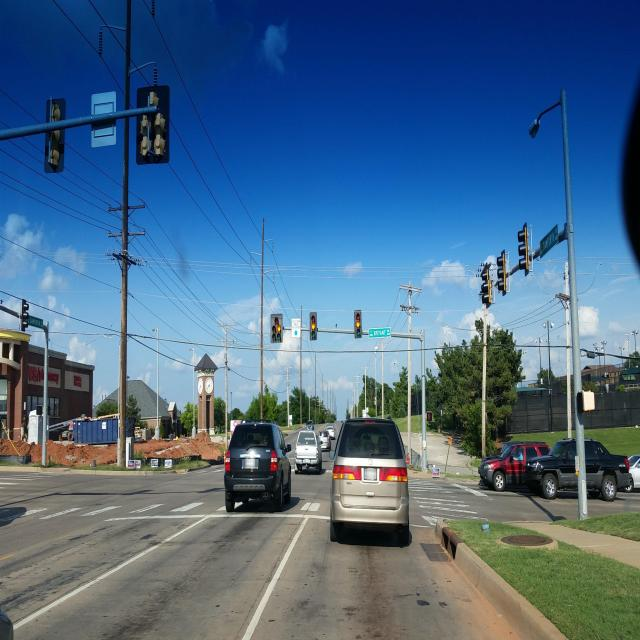Good: (500, 528, 556, 550)
